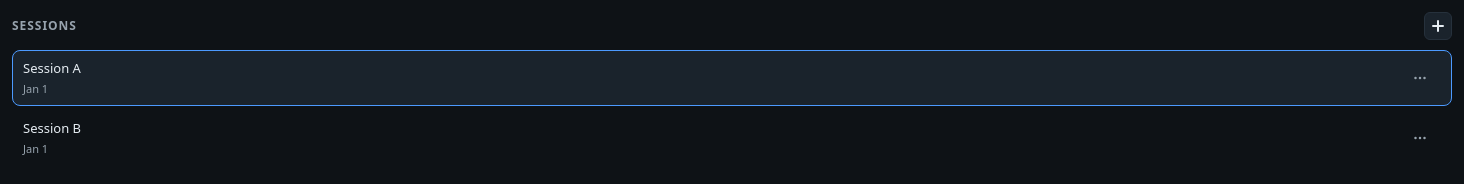
Test: session delete confirmation › cancels the confirmation on Escape without deleting
Click the 1st button with class "session-actions-trigger" at (1420, 78), box [1394, 64, 1446, 92]
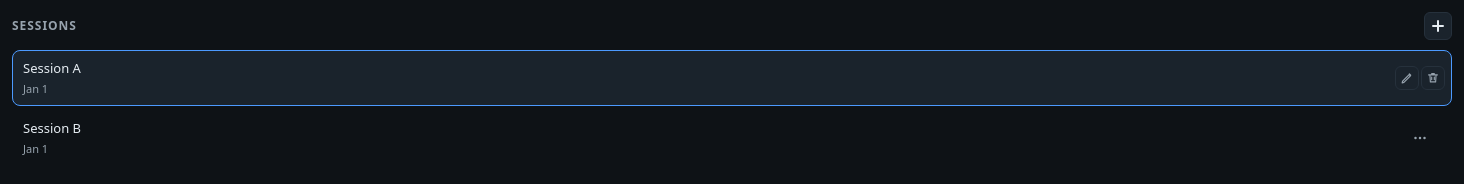
Click the button named "Delete session" at (1433, 78), box [1421, 66, 1445, 90]
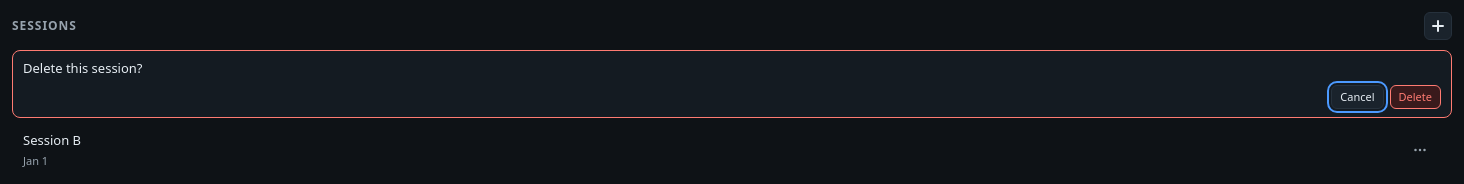
Press Escape in the element with class "session-delete-confirm", box [12, 50, 1452, 118]
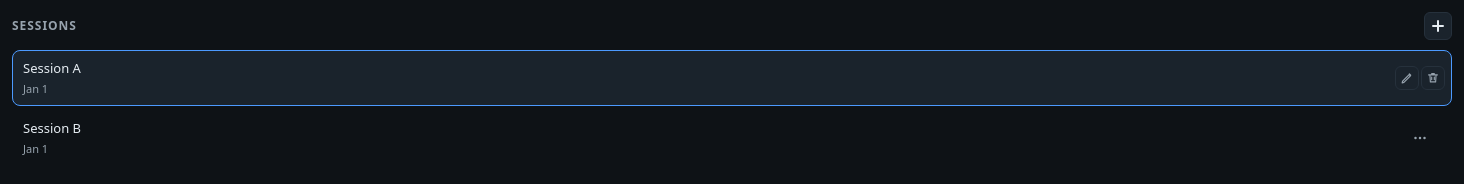
Expected: the element with class "session-delete-confirm" is gone
